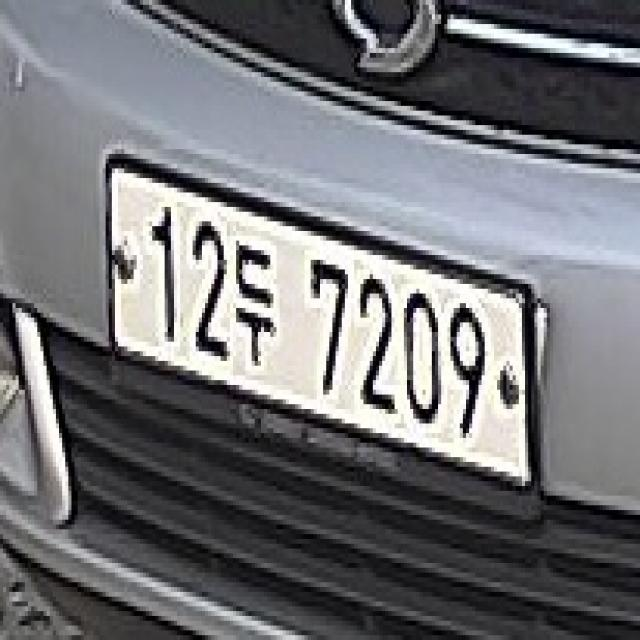0: (401, 284, 444, 433)
1: (140, 192, 186, 361)
2: (186, 212, 233, 375), (351, 270, 398, 424)
7: (302, 250, 354, 414)
9: (447, 298, 491, 452)
du: (233, 241, 283, 375)
license_plate: (100, 144, 540, 534)
